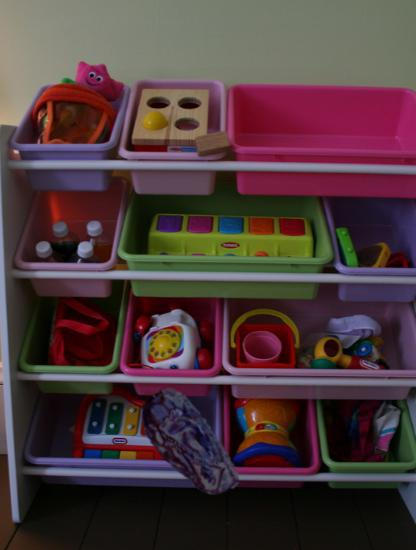Dates: (128, 384, 252, 508)
